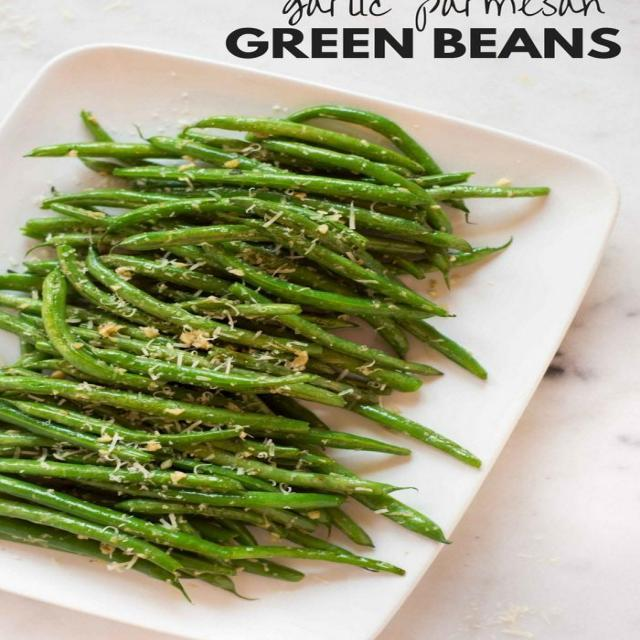Beans: (0, 62, 570, 624)
